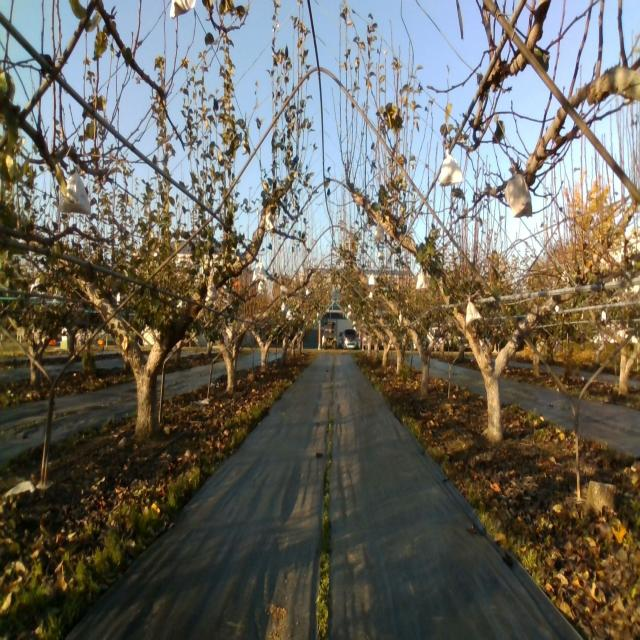pearbags: (57, 163, 93, 214), (504, 165, 533, 217), (439, 146, 464, 184), (465, 296, 481, 326), (252, 255, 268, 282), (205, 278, 217, 304), (416, 268, 429, 289), (374, 220, 386, 241), (264, 212, 274, 231)
